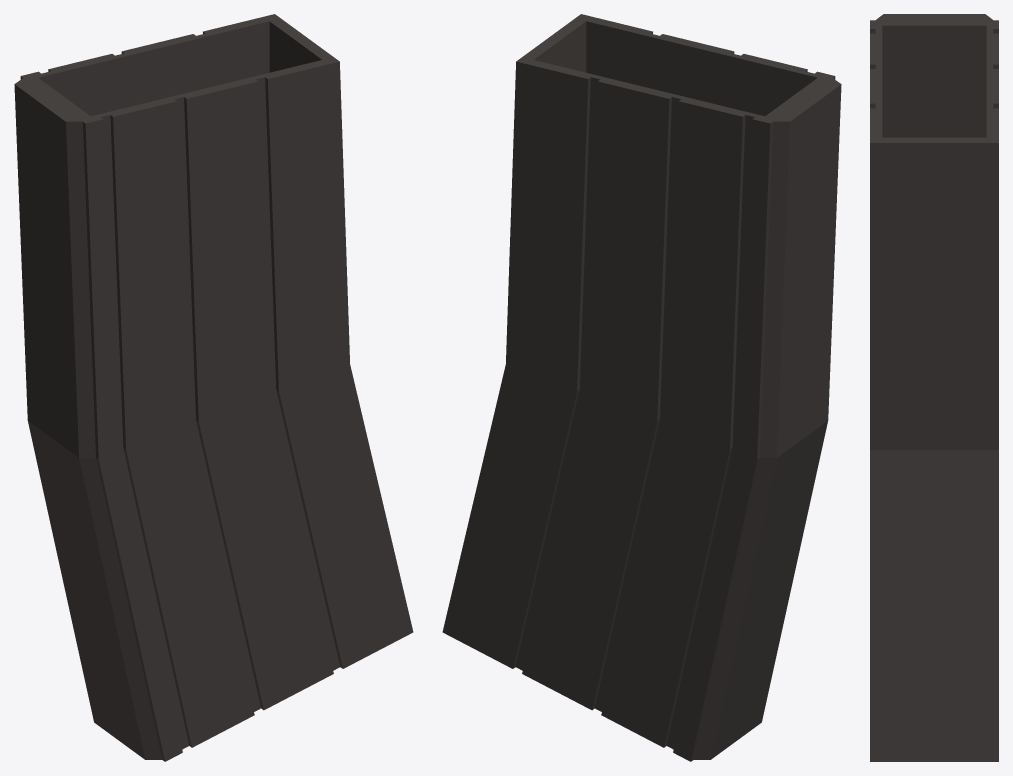
The model's file is AssaultRifle6_03_2.fbx.
3 views of the same model, side by side, from view 1: azimuth 30°, elevation 25°; view 2: azimuth 150°, elevation 25°; view 3: azimuth 270°, elevation 25° (orthographic).
Visible parts, largest first — view 1: AssaultRifle6_03_2; view 2: AssaultRifle6_03_2; view 3: AssaultRifle6_03_2.
Boxes of the visible parts, bbox=[...] form: AssaultRifle6_03_2: bbox=[14, 14, 413, 761]; AssaultRifle6_03_2: bbox=[442, 14, 841, 761]; AssaultRifle6_03_2: bbox=[870, 14, 998, 761].
Size of the model in its own units: 0.0911 by 0.168 by 0.0301.
